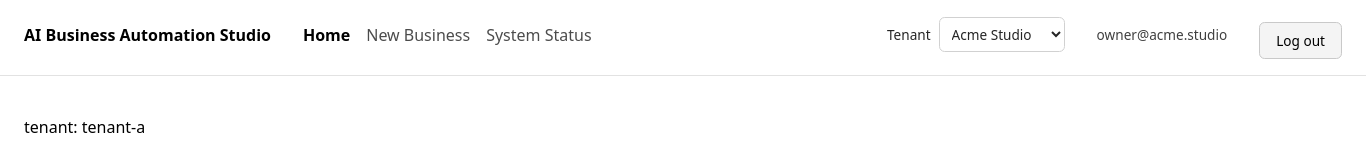
Test: AppShell › shows every authorized tenant in a selector when the user has more than one
The image size is (1366, 160).
Expected: the text "tenant: tenant-a" is shown, [24,116,145,138]
Select "Other Agency" in the dropdown at coordinates (1002, 34), box [939,17,1065,52]
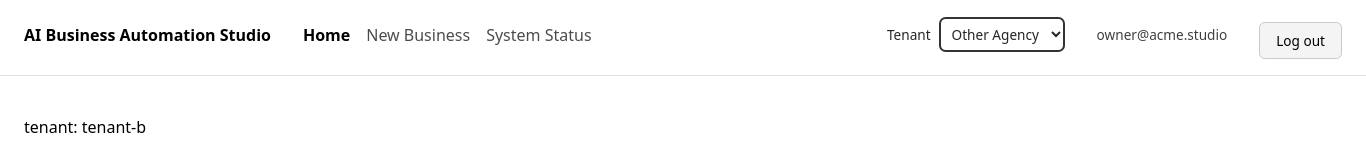
Now the text "tenant: tenant-b" is shown, box [24,116,146,138]
